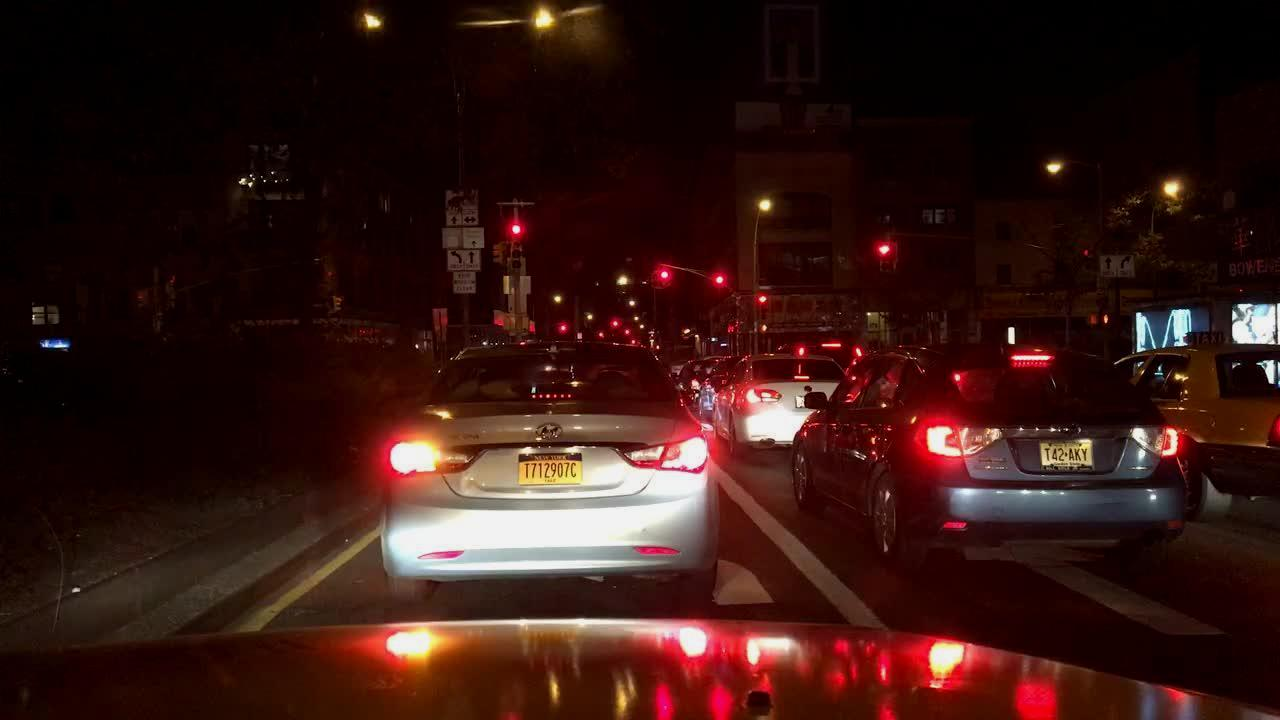Hyundai: (528, 416, 575, 446)
